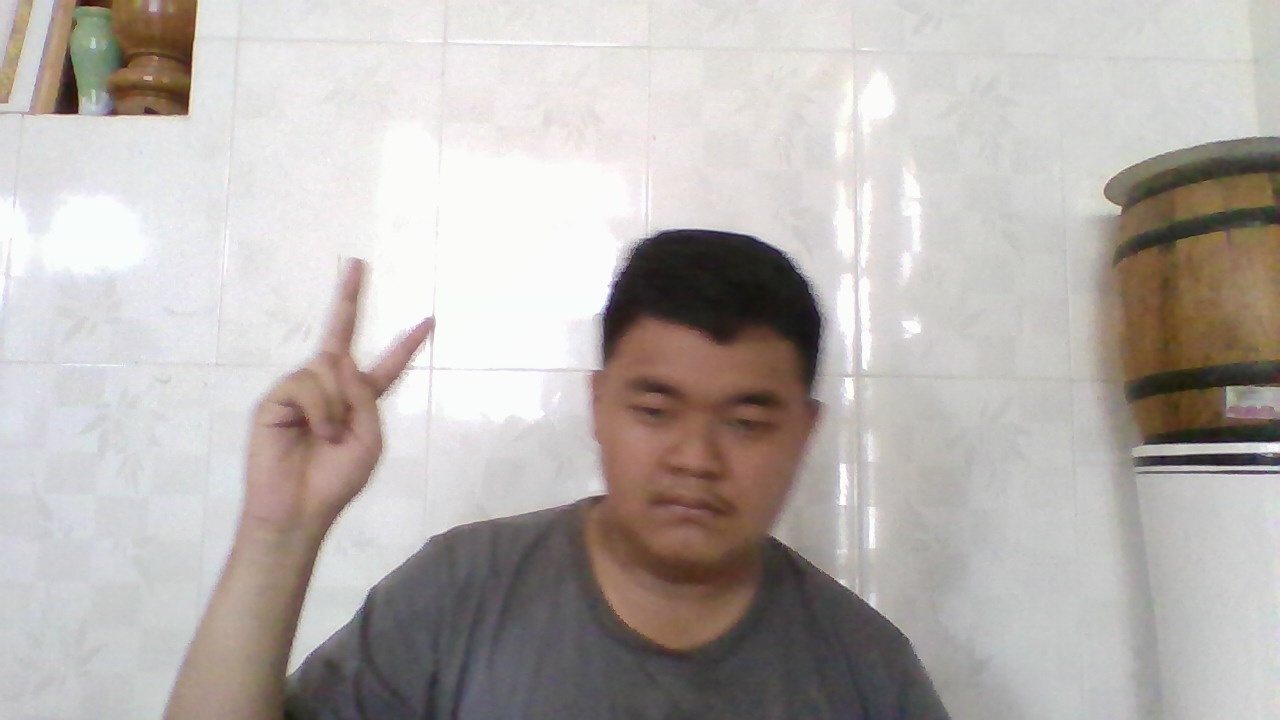H: (259, 254, 445, 532)
